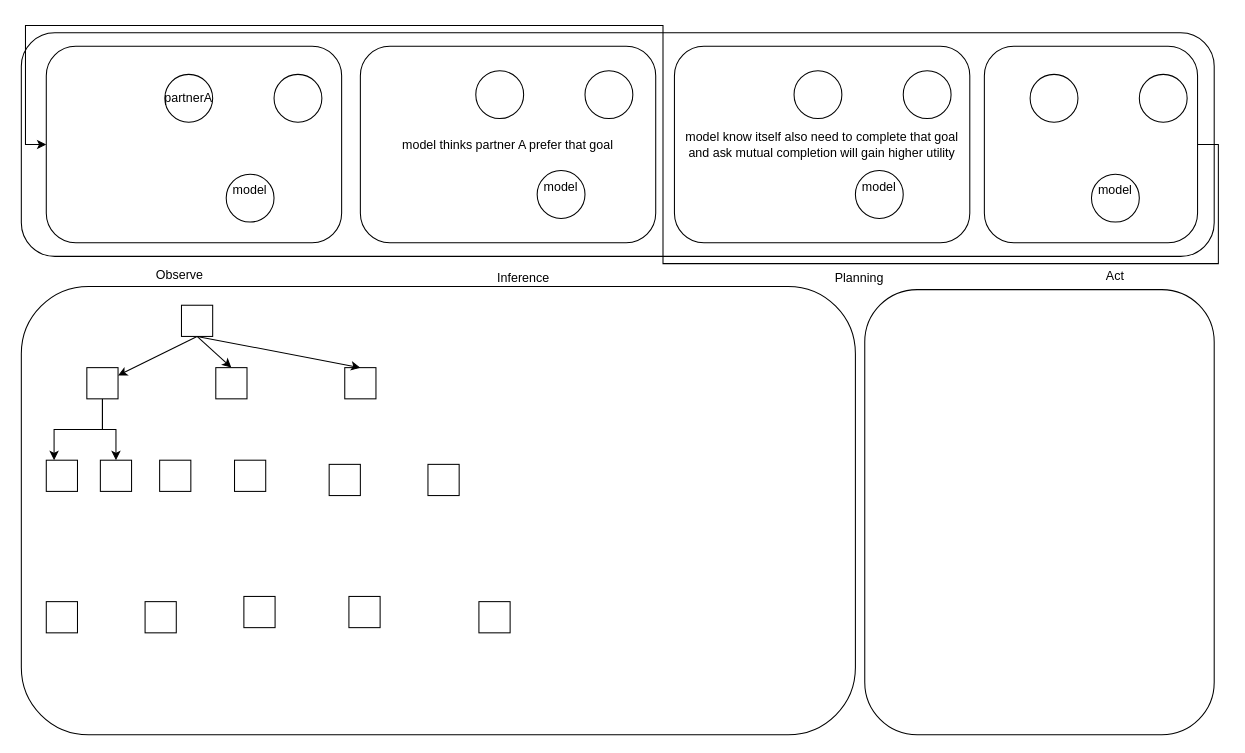
This 1245x753 diagram has some shape labels left out. Each missing label, with the box of its shape:
model offer partner A to complete the that goal: (983, 45, 1198, 243)
partnerA offer another partner to complete certain goal: (45, 45, 342, 243)
transfer: (864, 289, 1214, 735)
